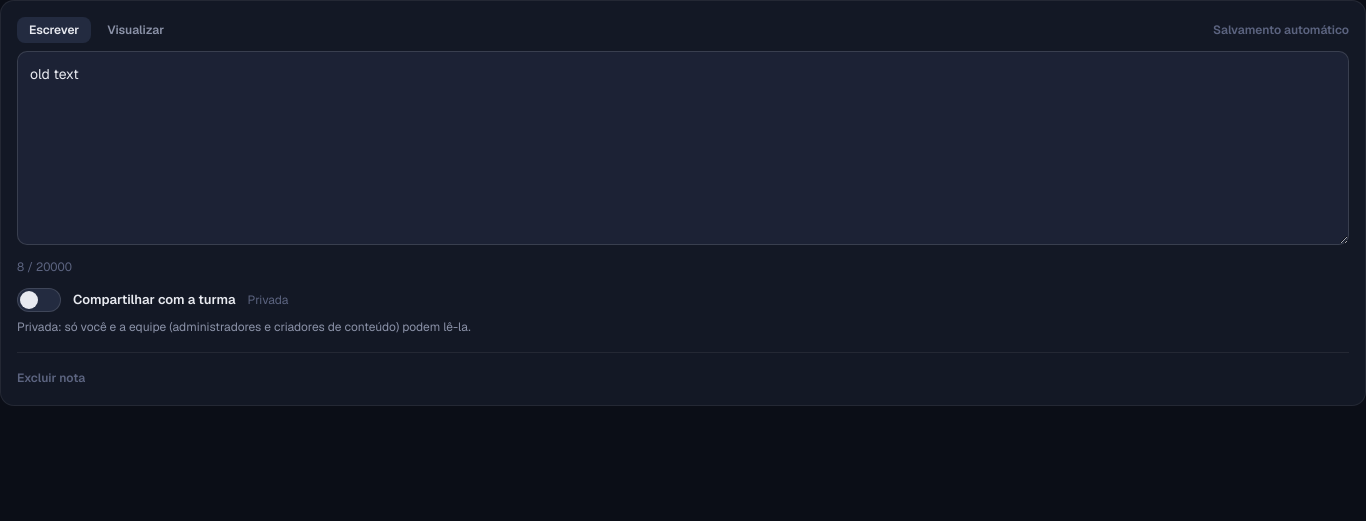
it: MyNoteEditor › on 409 NOTE_STALE › Discard clears the editor to the empty state
The width and height of the screenshot is (1366, 521).
Step 1. Replace the text in the text box named "Sua nota sobre este tópico" with "my local text" → (683, 148), box [17,51,1349,245]
Wait 2000 ms
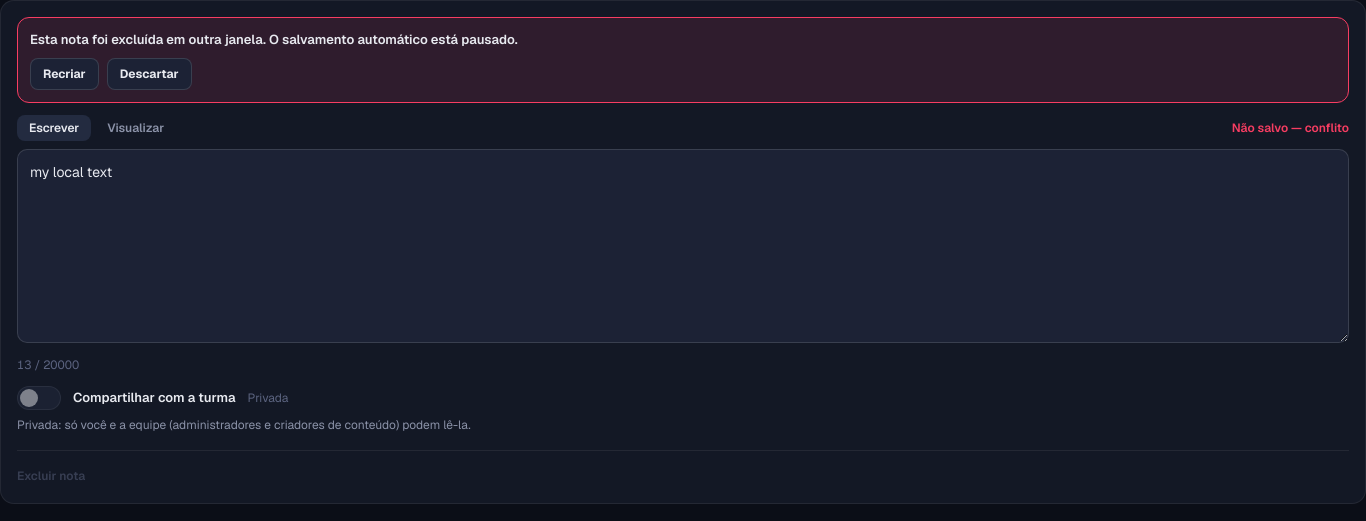
Step 2. Click the button "Descartar" → (149, 74), box [107,58,192,90]
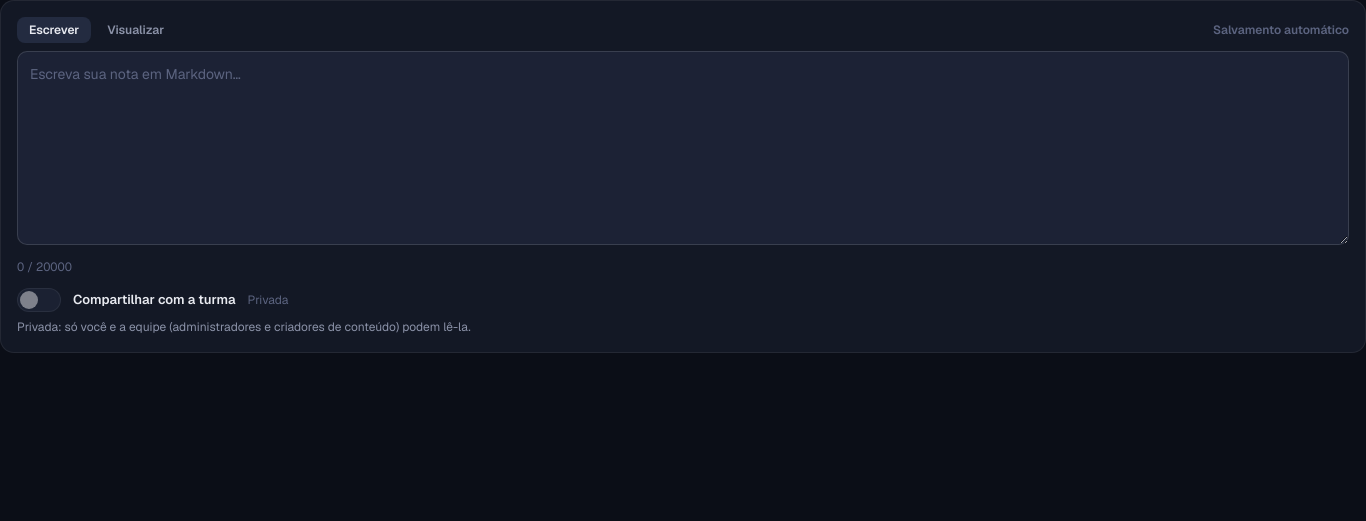
expect the text box named "Sua nota sobre este tópico" is empty: met, box [17,51,1349,245]
expect the text "Esta nota foi excluída em outra janela. O salvamento automático está pausado." is gone: met
expect the button "Excluir nota" is gone: met
